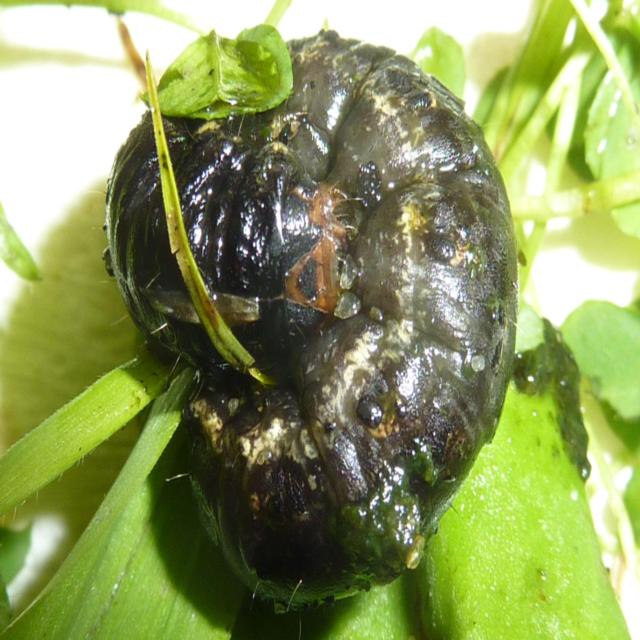black cutworm: (106, 31, 522, 608)
